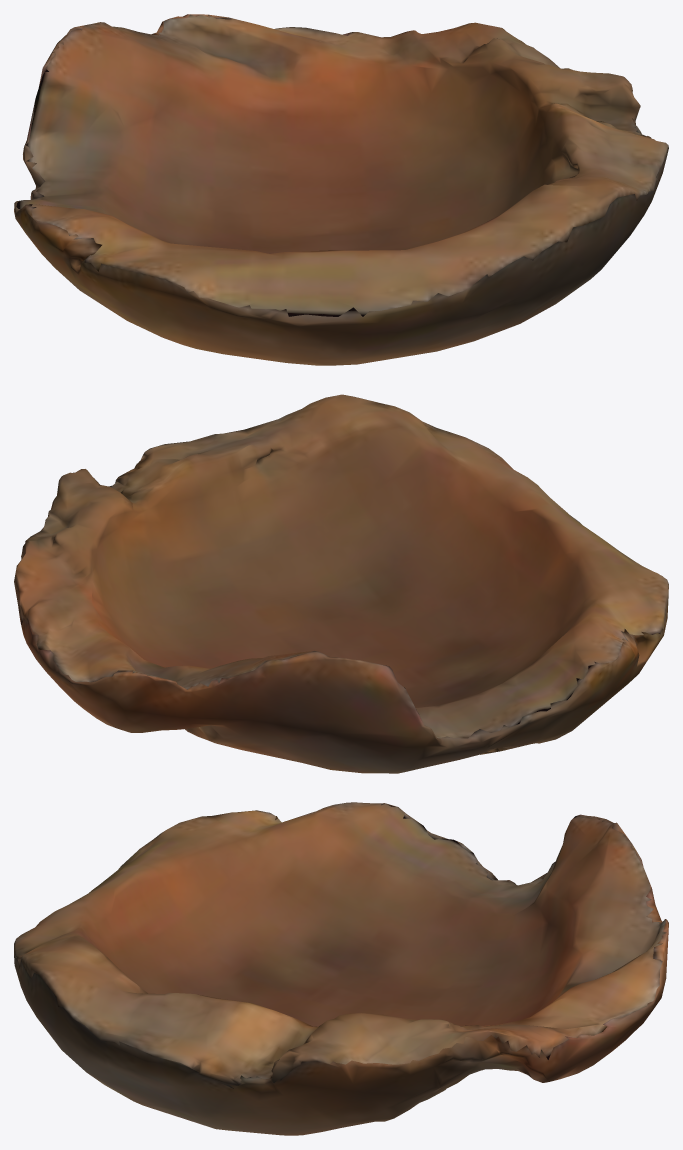
The model's file is bowl.glb.
3 views of the same model, one above another, from view 1: azimuth 30°, elevation 25°; view 2: azimuth 150°, elevation 25°; view 3: azimuth 270°, elevation 25° (orthographic). The views are drawn at different scales.
Visible parts, largest first — view 1: wooden_bowl_01; view 2: wooden_bowl_01; view 3: wooden_bowl_01.
Part boxes in pixels (x1,y1,x2,y2): wooden_bowl_01: (14, 14, 668, 365); wooden_bowl_01: (14, 394, 668, 773); wooden_bowl_01: (14, 802, 668, 1135).
Size of the model in its own units: 0.313 by 0.0937 by 0.3091.
Materials: 1 (1 with a texture image).
